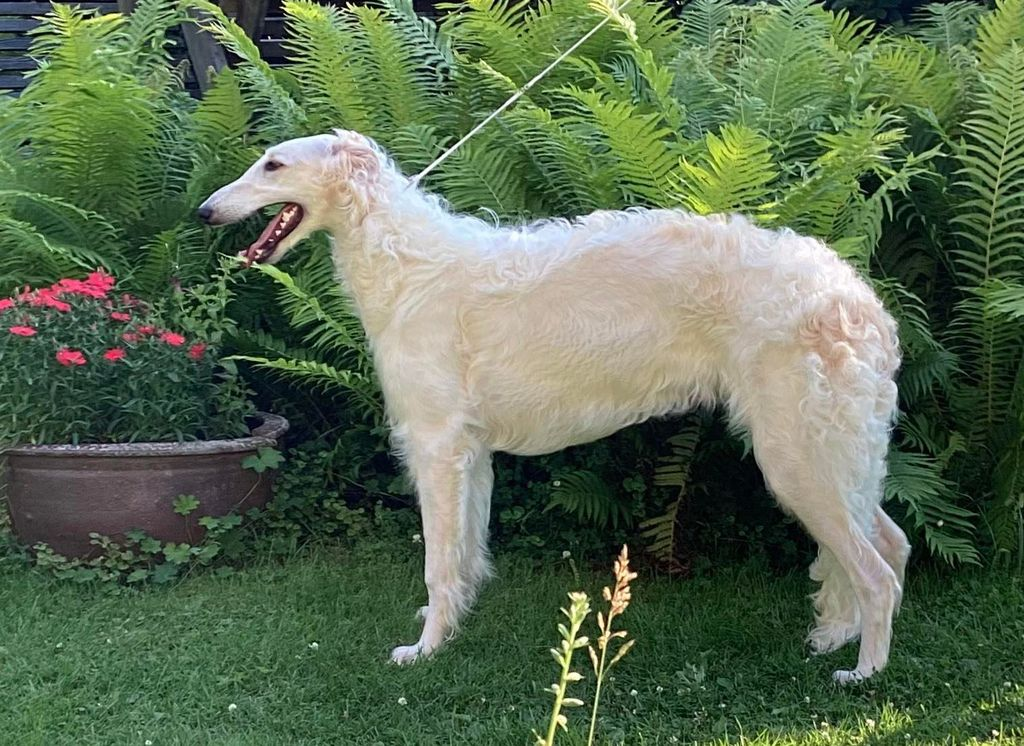borzoi: (175, 111, 938, 691)
